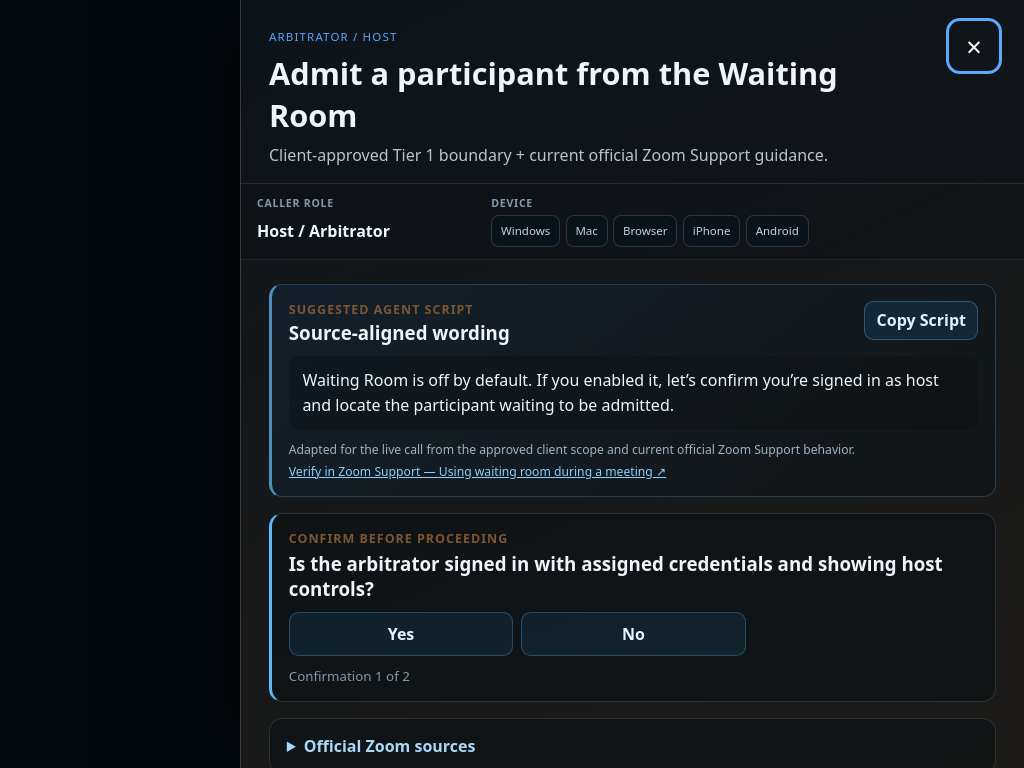
Test: lets the agent go back after a confirmation misclick
The width and height of the screenshot is (1024, 768).
Check: the heading "Is the arbitrator signed in with assigned credentials" is shown, box [289,551,943,601]
What coordinates should you click on to do the following:
click the button "Yes"
I would click on:
 (401, 634)
Its box is [289,612,513,656].
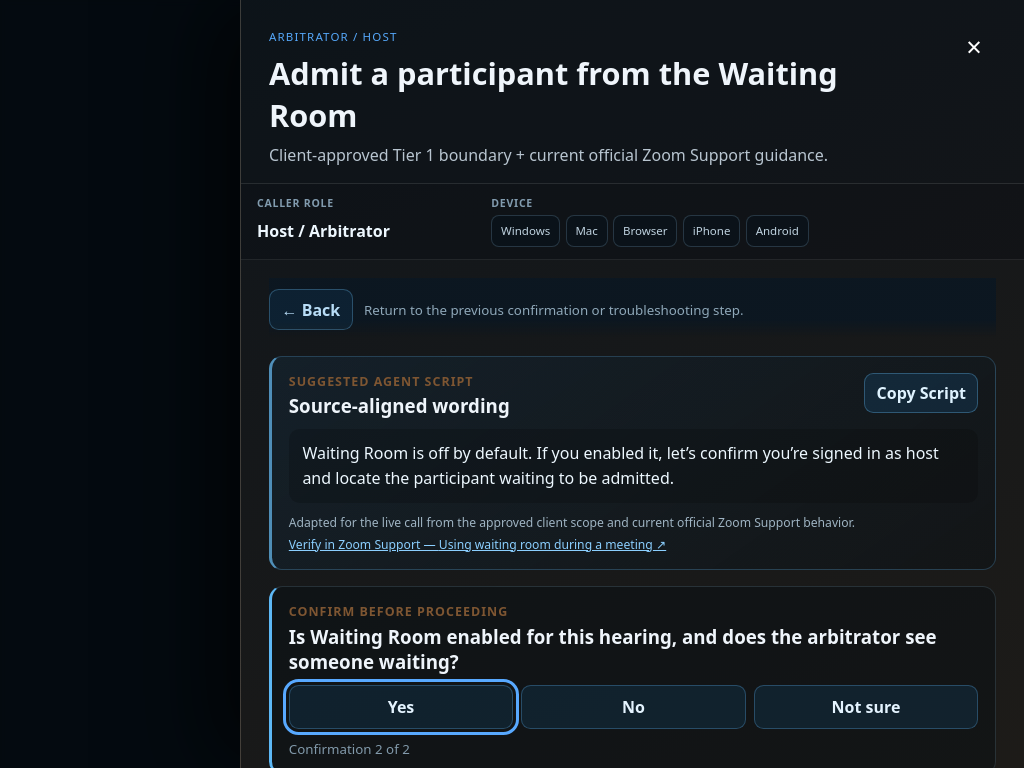
Check: the heading "Is Waiting Room enabled" is shown, box [289,624,937,674]
What coordinates should you click on to do the following:
click the button with aria-label "Back to previous troubleshooting step"
I would click on:
 (311, 310)
Its box is [269,289,353,330].
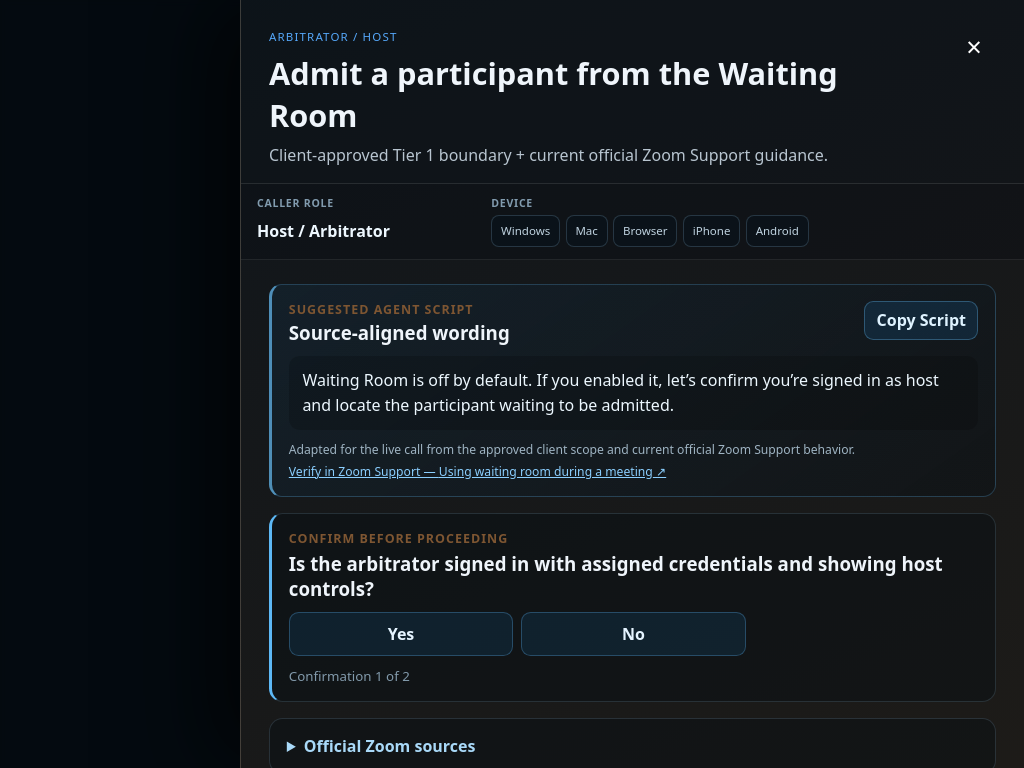
Check: the heading "Is the arbitrator signed in with assigned credentials" is shown, box [289,551,943,601]
Check: the heading "Is Waiting Room enabled" is gone
